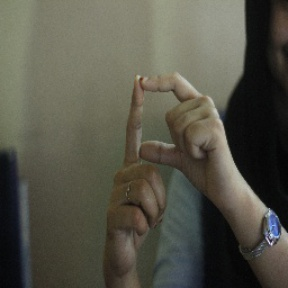D: (117, 67, 209, 189)
